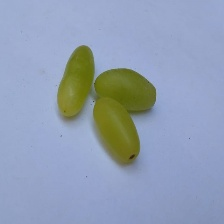grapes: (45, 32, 199, 188)
